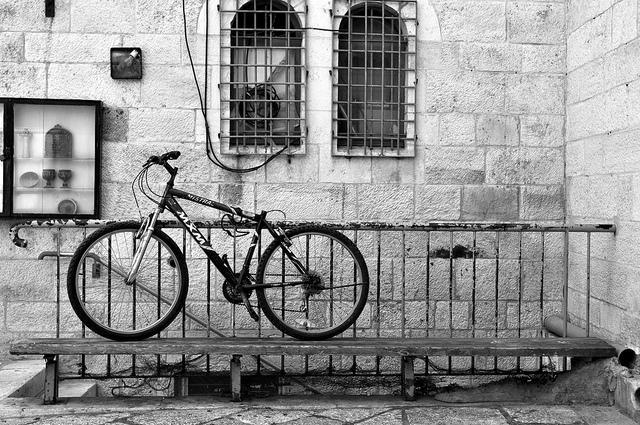bicycle: (63, 150, 374, 344)
